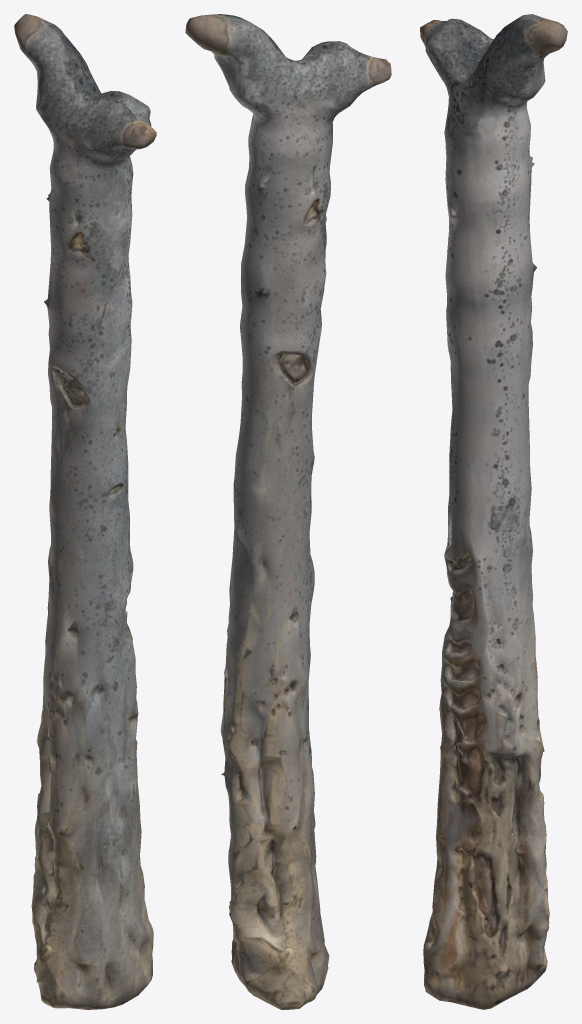
Rendered from desert_deadtree.glb.
The picture shows the model from 3 angles, left to right: view 1: azimuth 90°, elevation 25°; view 2: azimuth 150°, elevation 25°; view 3: azimuth 270°, elevation 25°; orthographic projection. The views are drawn at different scales.
Parts seen in each view (by area): view 1: dead_quiver_trunk_LOD0; view 2: dead_quiver_trunk_LOD0; view 3: dead_quiver_trunk_LOD0.
Part boxes in pixels (box(x1,y1,x2,y2)): dead_quiver_trunk_LOD0: box(14, 14, 156, 1009); dead_quiver_trunk_LOD0: box(185, 14, 391, 1009); dead_quiver_trunk_LOD0: box(420, 14, 567, 1009).
Size of the model in its own units: 0.3065 by 1.99 by 0.268.
1 material, 1 textured.
